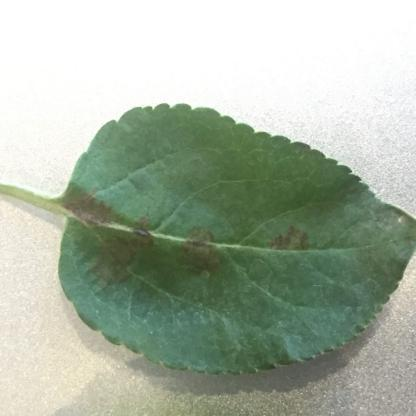Apple Scab Leaf: (62, 118, 416, 381)
